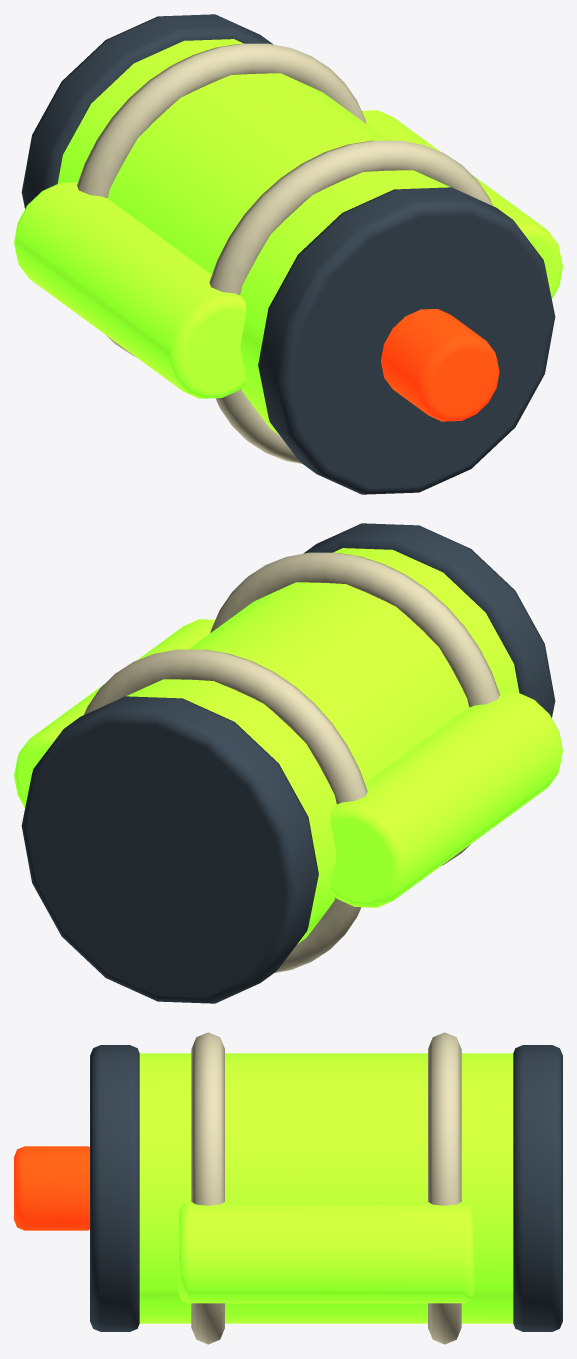
File: Duke_Special.fbx
3 renders of one model, top to bottom at view 1: azimuth 30°, elevation 25°; view 2: azimuth 150°, elevation 25°; view 3: azimuth 270°, elevation 25°, orthographic. The views are drawn at different scales.
Visible parts, largest first — view 1: Sealed end.003, Chemical canister.001, Dispersion bottle, Safety strap.003, Safety strap.002, Sealed end.002, Valve.001, Dispersion bottle.001; view 2: Sealed end.002, Chemical canister.001, Dispersion bottle, Safety strap.002, Safety strap.003, Sealed end.003, Dispersion bottle.001; view 3: Chemical canister.001, Dispersion bottle.001, Sealed end.002, Sealed end.003, Safety strap.002, Safety strap.003, Valve.001.
Part boxes in pixels (x1,y1,x2,y2): Sealed end.003: (258, 187, 555, 494); Chemical canister.001: (57, 39, 450, 435); Dispersion bottle: (14, 182, 246, 398); Safety strap.003: (209, 140, 492, 463); Safety strap.002: (77, 43, 366, 356); Sealed end.002: (21, 14, 273, 208); Valve.001: (381, 309, 499, 421); Dispersion bottle.001: (362, 110, 562, 298); Sealed end.002: (21, 696, 318, 1003); Chemical canister.001: (126, 548, 519, 944); Dispersion bottle: (330, 691, 562, 907); Safety strap.002: (84, 649, 367, 972); Safety strap.003: (210, 552, 499, 865); Sealed end.003: (303, 523, 555, 717); Dispersion bottle.001: (14, 619, 214, 807); Chemical canister.001: (139, 1053, 513, 1323); Dispersion bottle.001: (178, 1202, 474, 1303); Sealed end.002: (513, 1045, 562, 1331); Sealed end.003: (90, 1045, 139, 1331); Safety strap.002: (428, 1032, 461, 1344); Safety strap.003: (191, 1032, 224, 1344); Valve.001: (14, 1146, 89, 1230).
Size of the model in its own units: 96 by 74 by 130.
